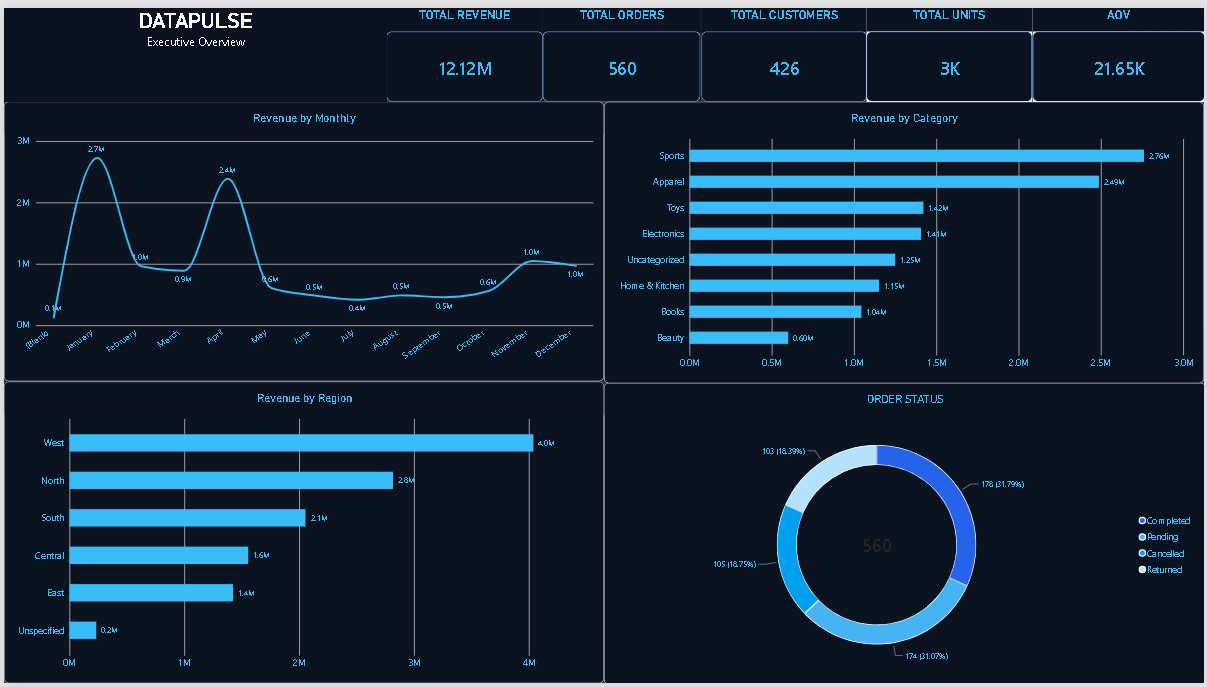

What the dashboard file says about the page in this screenshot:
{"tool":"powerbi","page":{"name":"Executive Overview","canvas":[1920,1080],"ordinal":0},"visuals":[{"type":"cardVisual","title":"TOTAL REVENUE","fields":{"Data":["Sum(public vw_overall_kpis.total_revenue)"]},"box":[612.5,0,250,150],"z":0},{"type":"cardVisual","title":"TOTAL ORDERS","fields":{"Data":["Sum(public vw_overall_kpis.total_orders)"]},"box":[862.5,0,252.5,150],"z":1000},{"type":"cardVisual","title":"TOTAL CUSTOMERS","fields":{"Data":["Sum(public vw_overall_kpis.total_customers)"]},"box":[1115,0,265,150],"z":2000},{"type":"cardVisual","title":"TOTAL UNITS","fields":{"Data":["Sum(public vw_overall_kpis.total_units_sold)"]},"box":[1380,0,265,150],"z":3000},{"type":"cardVisual","title":"AOV","fields":{"Data":["Sum(public vw_overall_kpis.average_order_value)"]},"box":[1645,0,275,150],"z":4000},{"type":"lineChart","title":"Revenue by Monthly","fields":{"Category":["public vw_monthly_performance.month.Variation.Date Hierarchy.Month"],"Y":["Sum(public vw_monthly_performance.total_revenue)"]},"box":[0,150,960,447.5],"z":5000},{"type":"clusteredBarChart","title":"Revenue by Region","fields":{"Category":["public vw_regional_performance.region"],"Y":["Sum(public vw_regional_performance.total_revenue)"]},"box":[0,597.5,960,482.5],"z":6000},{"type":"clusteredBarChart","title":"Revenue by Category","fields":{"Category":["public vw_product_performance.product_category"],"Y":["Sum(public vw_product_performance.total_revenue)"]},"box":[960,150,960,450],"z":7000},{"type":"donutChart","title":"ORDER STATUS","fields":{"Category":["public vw_order_status_summary.order_status"],"Y":["Sum(public vw_order_status_summary.total_orders)"]},"box":[960,600,962.5,482.5],"z":8000},{"type":"textbox","title":"DATAPULSE","box":[0,0,613,150],"z":9000}]}

Visuals, with their boxes in screenshot pixels (x1, y1, x2, y2), scaled from the page's 1920x1080 canvas onto the 1207x687 screenshot:
"TOTAL REVENUE" cardVisual: rect(385, 0, 542, 95)
"TOTAL ORDERS" cardVisual: rect(542, 0, 701, 95)
"TOTAL CUSTOMERS" cardVisual: rect(701, 0, 868, 95)
"TOTAL UNITS" cardVisual: rect(868, 0, 1034, 95)
"AOV" cardVisual: rect(1034, 0, 1206, 95)
"Revenue by Monthly" lineChart: rect(0, 95, 604, 380)
"Revenue by Region" clusteredBarChart: rect(0, 380, 604, 686)
"Revenue by Category" clusteredBarChart: rect(604, 95, 1206, 382)
"ORDER STATUS" donutChart: rect(604, 382, 1206, 686)
"DATAPULSE" textbox: rect(0, 0, 385, 95)
